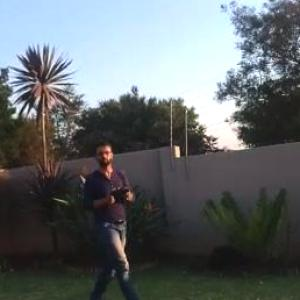follow: (79, 134, 152, 299)
